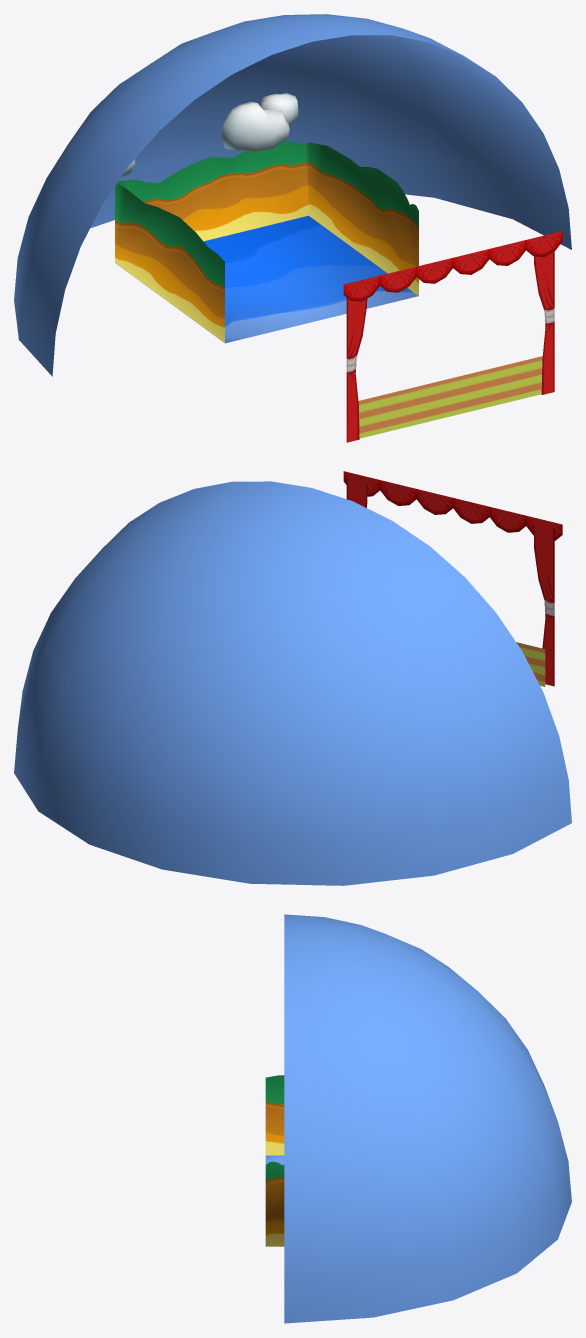
3 renders of one model, top to bottom at view 1: azimuth 30°, elevation 25°; view 2: azimuth 150°, elevation 25°; view 3: azimuth 270°, elevation 25°, orthographic. The views are drawn at different scales.
Visible parts, largest first — view 1: 对象001, 对象006, cj, 对象003, 对象002; view 2: 对象001, cj; view 3: 对象001, 对象006.
Part boxes in pixels (x1,y1,x2,y2): 对象001: (14, 14, 571, 376); 对象006: (115, 140, 418, 343); cj: (343, 231, 562, 442); 对象003: (221, 101, 289, 151); 对象002: (259, 93, 298, 126); 对象001: (14, 481, 571, 885); cj: (343, 471, 562, 686); 对象001: (284, 914, 571, 1323); 对象006: (265, 1075, 284, 1246).
Size of the model in its own units: 43.54 by 42.21 by 22.05.
Materials: 1 (1 with a texture image).
